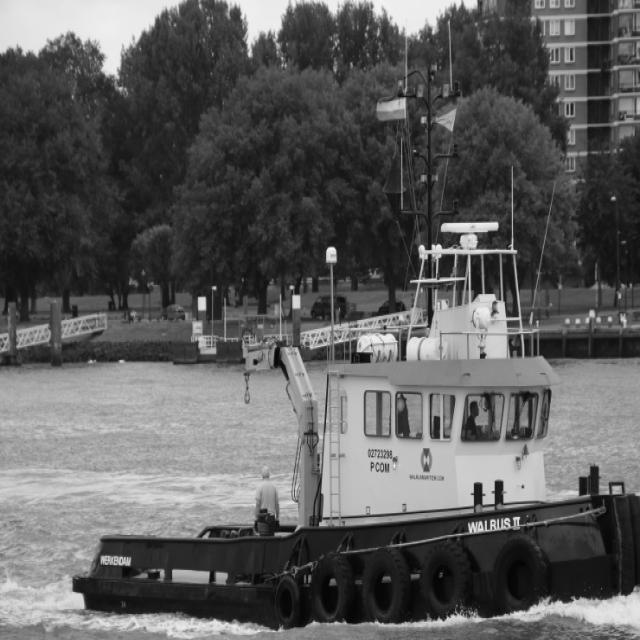tugboat: (70, 212, 640, 640)
